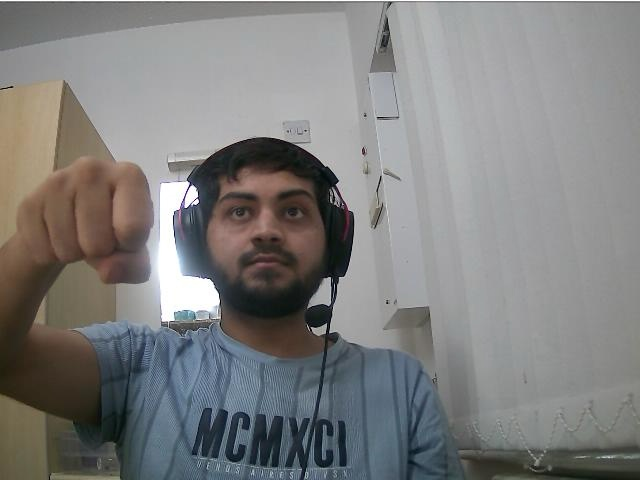hold: (14, 155, 152, 284)
